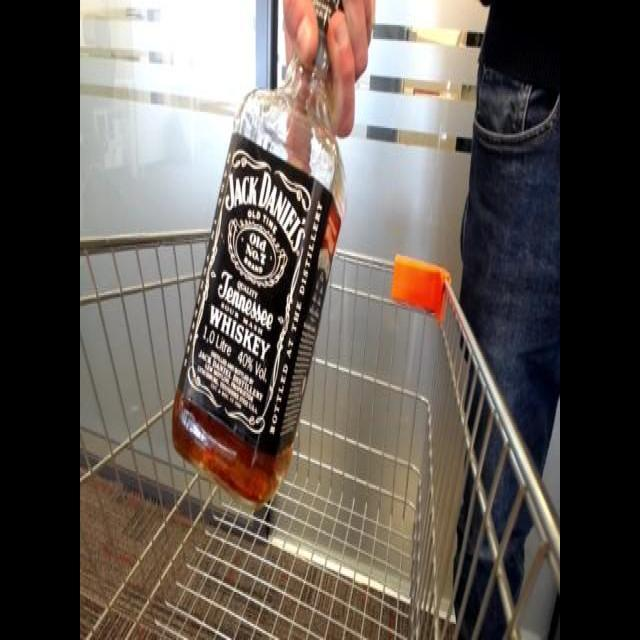Jack Daniels: (144, 0, 358, 519)
